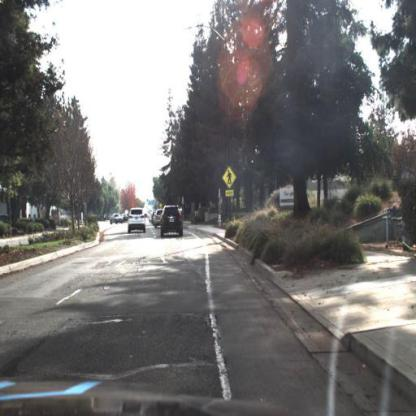car: (161, 205, 186, 240), (128, 205, 148, 234), (153, 208, 165, 231), (110, 214, 124, 228)
